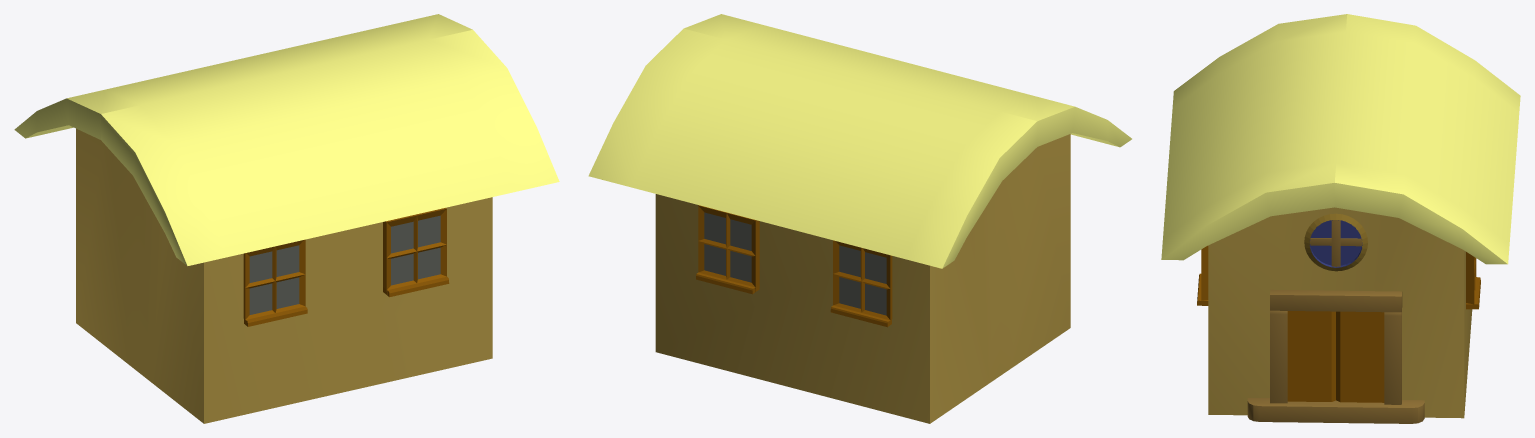
File: house_2.fbx
The picture shows the model from 3 angles, left to right: view 1: azimuth 30°, elevation 25°; view 2: azimuth 150°, elevation 25°; view 3: azimuth 270°, elevation 25°; orthographic projection. The views are drawn at different scales.
Parts seen in each view (by area): view 1: HOUSEsmall; view 2: HOUSEsmall; view 3: HOUSEsmall.
Boxes of the visible parts, x1,y1,x2,y2 form: HOUSEsmall: (14,14,559,423); HOUSEsmall: (588,14,1131,423); HOUSEsmall: (1161,14,1520,423).
Size of the model in its own units: 663 by 453 by 581.
